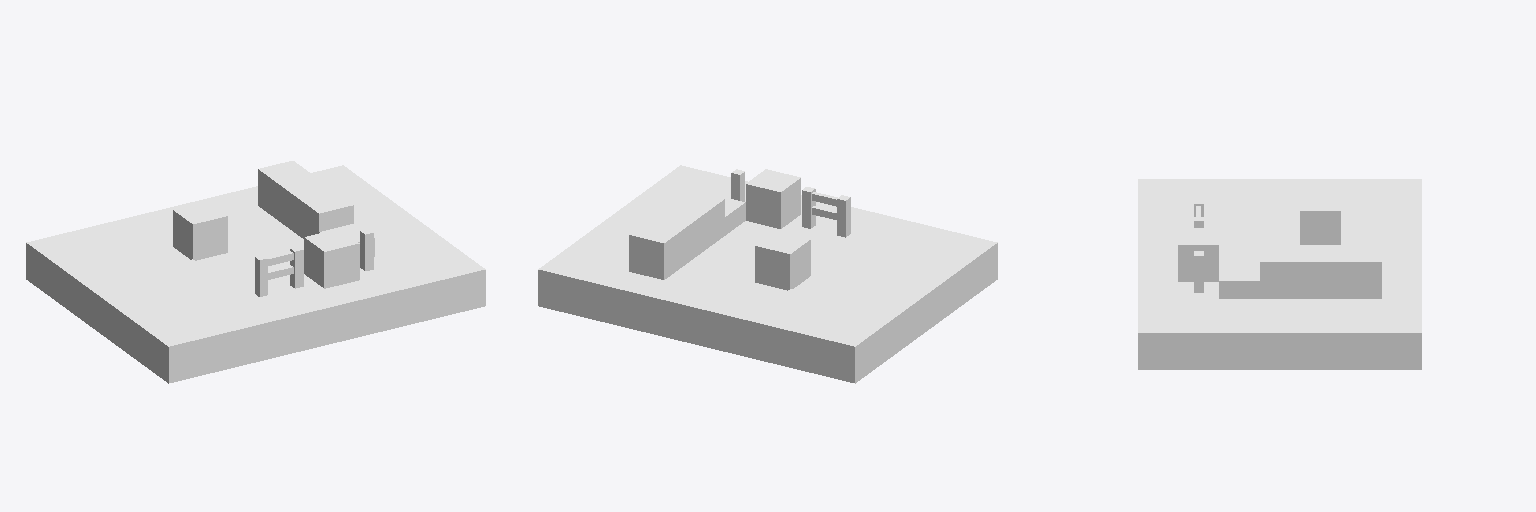
Rendered from cactus.obj.
3 views of the same model, side by side, from view 1: azimuth 30°, elevation 25°; view 2: azimuth 150°, elevation 25°; view 3: azimuth 270°, elevation 25° (orthographic).
Parts seen in each view (by area): view 1: New_World__89_3_101_to_97_255_107; view 2: New_World__89_3_101_to_97_255_107; view 3: New_World__89_3_101_to_97_255_107.
Boxes of the visible parts, box(x1,y1,x2,y2) form: New_World__89_3_101_to_97_255_107: box(26, 161, 485, 383); New_World__89_3_101_to_97_255_107: box(538, 165, 997, 383); New_World__89_3_101_to_97_255_107: box(1138, 179, 1421, 369).
Bounding box in the file's own units: 9 × 2 × 7.